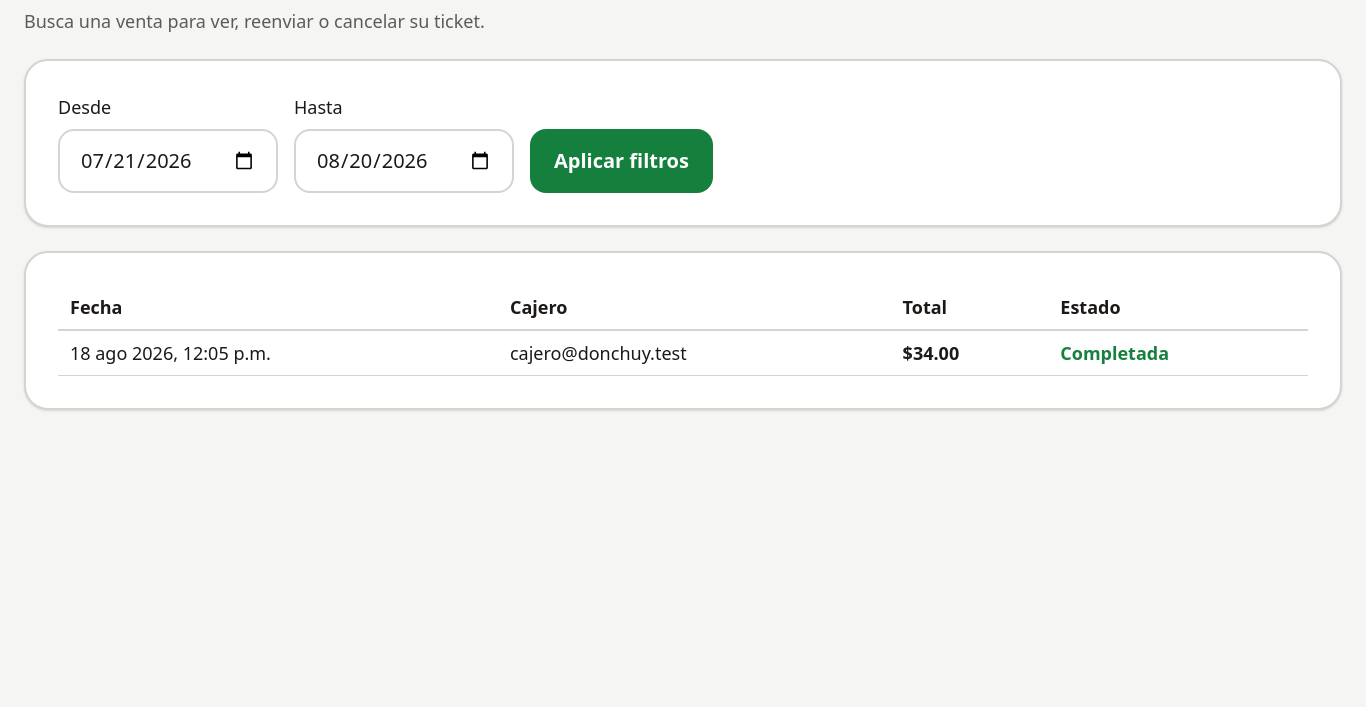
Test: SalesHistoryScreen › clic en una fila abre el ticket de esa venta (con cancelar ya disponible)
Click the text "cajero@donchuy.test".
click(598, 353)  # box [498, 330, 891, 376]
(page scrolled)
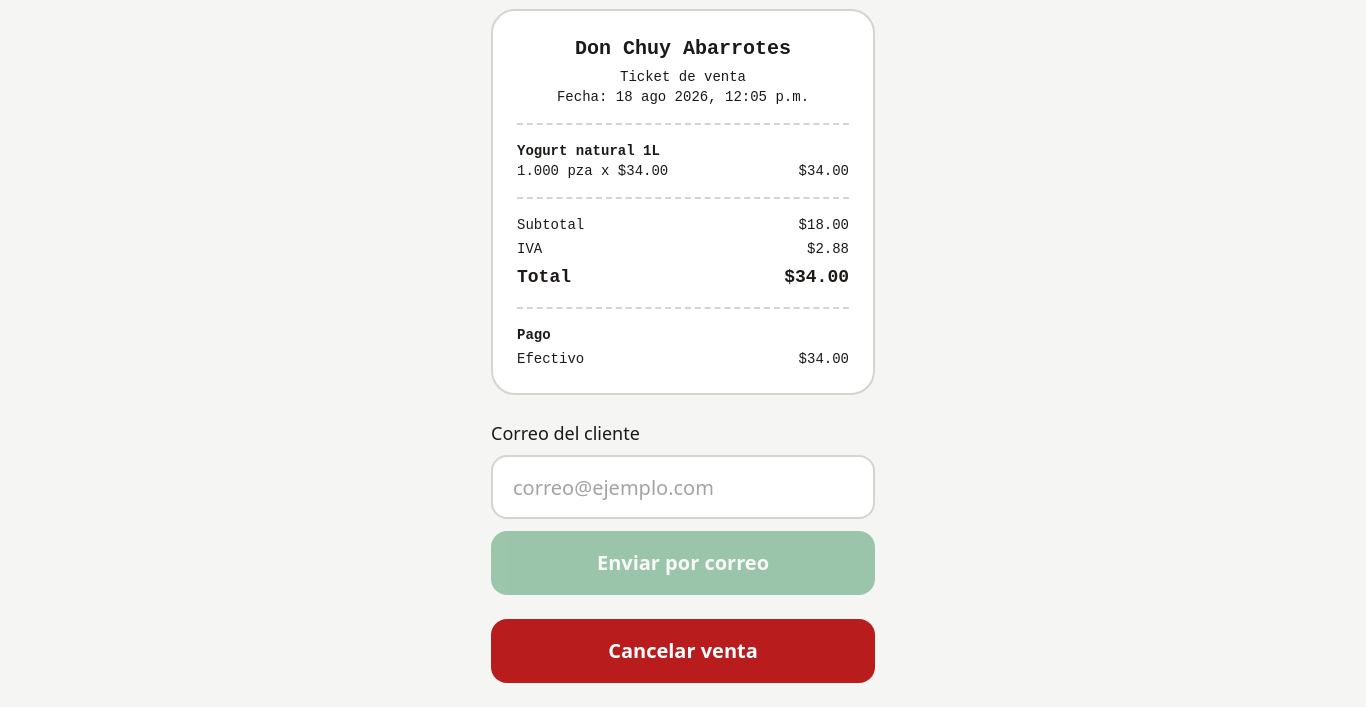
expect the text "Yogurt natural 1L" is shown: met, box [517, 143, 660, 159]
expect the button "Cancelar venta" is shown: met, box [491, 619, 875, 683]
